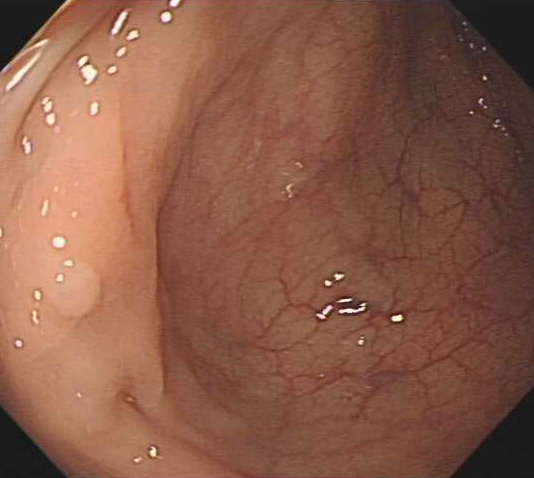others: (37, 258, 102, 317)
